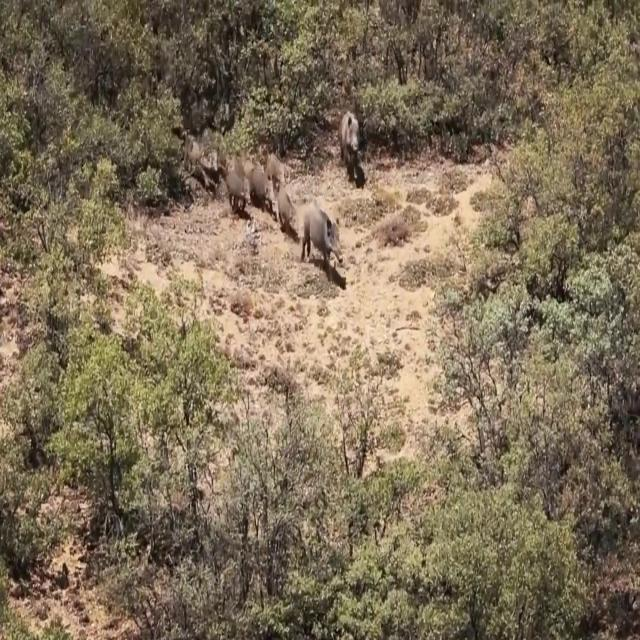pig: (296, 187, 342, 277), (248, 144, 278, 222), (210, 122, 237, 180), (264, 140, 290, 185), (278, 178, 296, 242), (186, 132, 206, 176), (232, 174, 248, 220)
